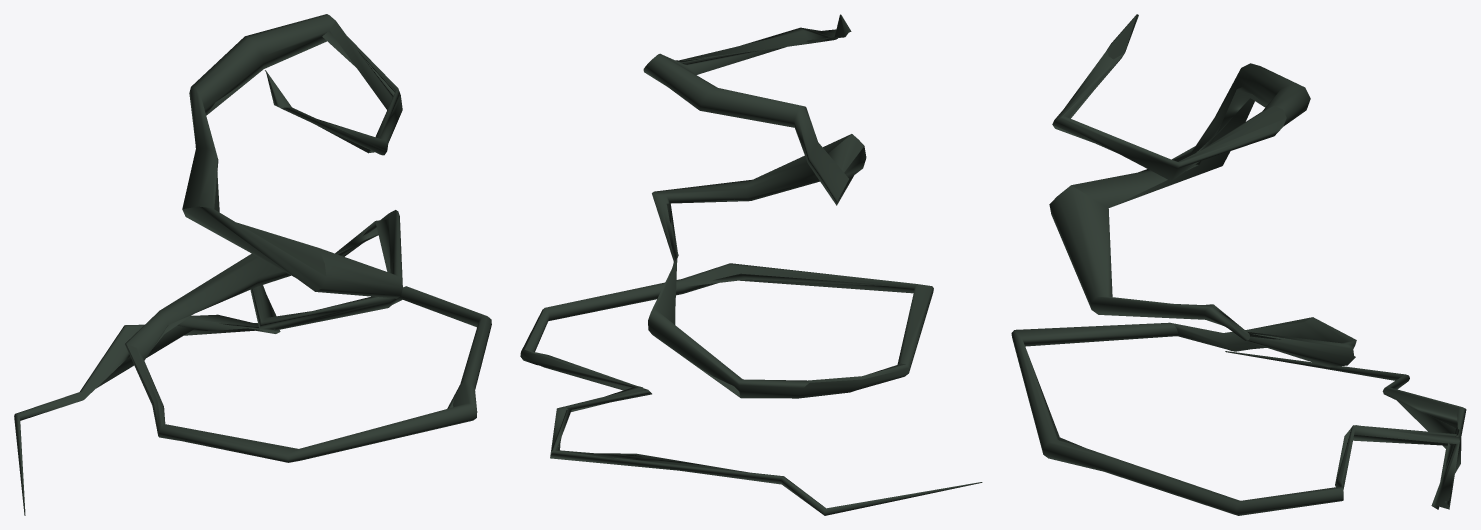
3 renders of one model, left to right at view 1: azimuth 30°, elevation 25°; view 2: azimuth 150°, elevation 25°; view 3: azimuth 270°, elevation 25°, orthographic. The views are drawn at different scales.
Parts seen in each view (by area): view 1: sweep1; view 2: sweep1; view 3: sweep1.
Part boxes in pixels (left/top/right/bottom): sweep1: left=14, top=14, right=491, bottom=515; sweep1: left=520, top=14, right=982, bottom=515; sweep1: left=1011, top=14, right=1466, bottom=515.
Size of the model in its own units: 3.7 by 3.21 by 3.04.
Materials: 1 (1 with a texture image).
